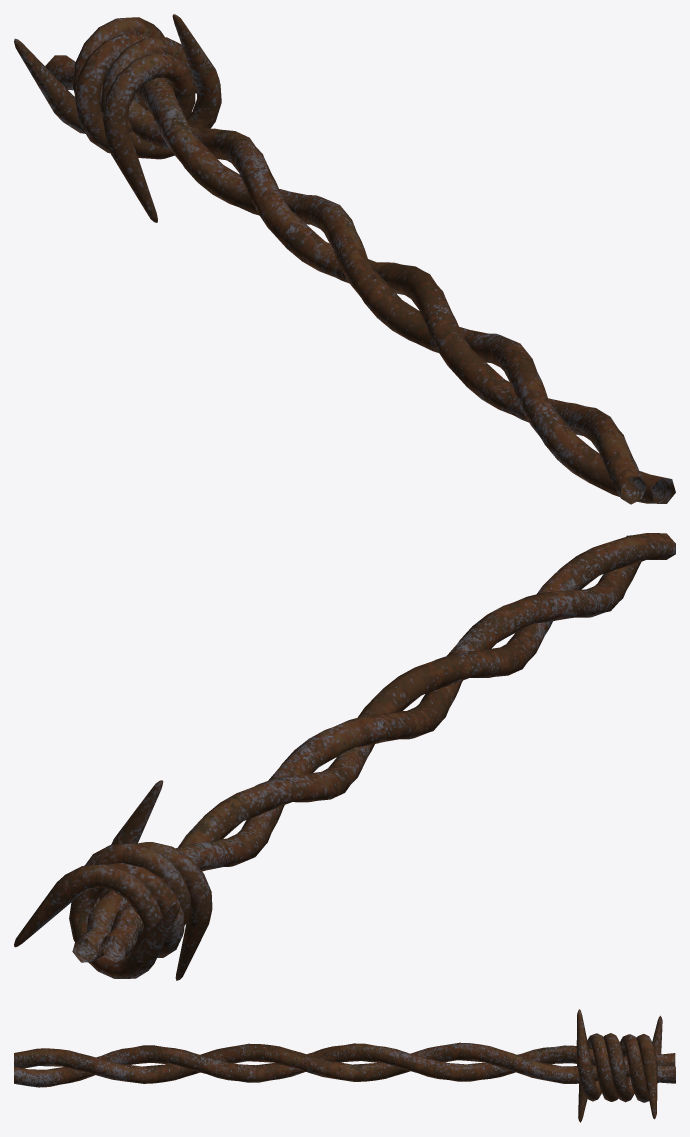
The model's file is SM_Wire.fbx.
3 renders of one model, top to bottom at view 1: azimuth 30°, elevation 25°; view 2: azimuth 150°, elevation 25°; view 3: azimuth 270°, elevation 25°, orthographic. The views are drawn at different scales.
Visible parts, largest first — view 1: SM_Wire_LOD0; view 2: SM_Wire_LOD0; view 3: SM_Wire_LOD0.
Boxes of the visible parts, left/top/right/bottom form: SM_Wire_LOD0: left=14, top=14, right=675, bottom=504; SM_Wire_LOD0: left=14, top=533, right=675, bottom=980; SM_Wire_LOD0: left=14, top=1009, right=675, bottom=1122.
Size of the model in its own units: 7.46 by 41.64 by 8.19.
1 material, 1 textured.
